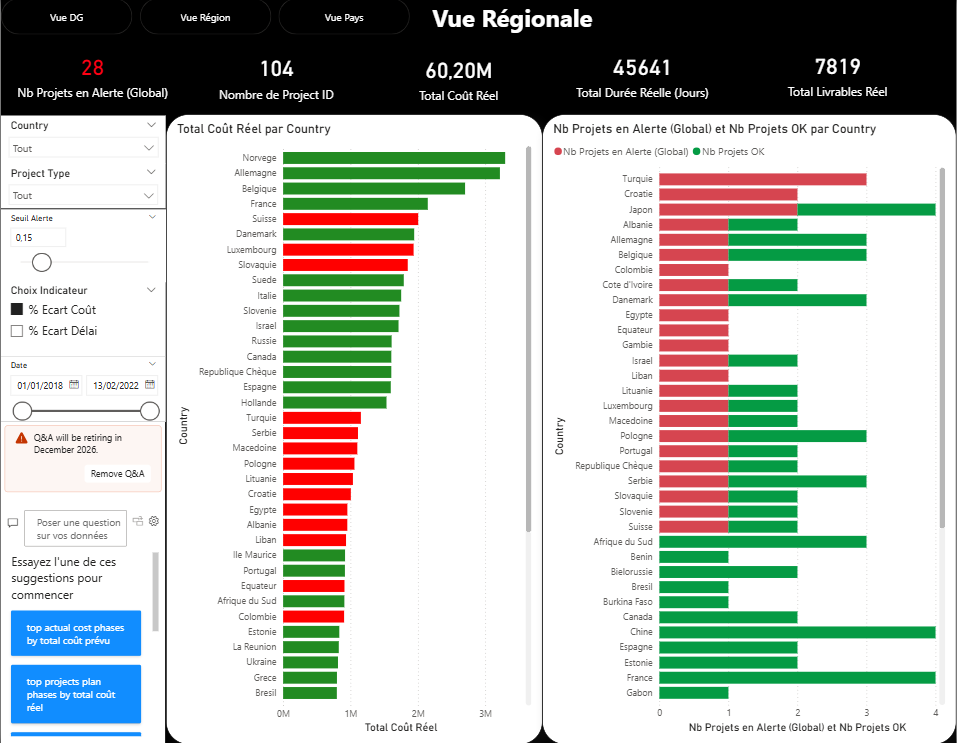

This screenshot's page, from the dashboard's own definition file:
{"tool":"powerbi","page":{"name":"Tableau de bord","canvas":[1280,1000],"ordinal":0},"visuals":[{"type":"group","id":"g1","title":"Groupe 2","box":[0,0,1280,1000],"z":1000},{"type":"textbox","box":[572.9,0,236.7,52.4],"z":1000,"group":"g1"},{"type":"clusteredBarChart","fields":{"Category":["Country_Profiles.Country"],"Y":["Actual_Costs.Total Coût Réel"]},"box":[221.1,155,505,845],"z":2000,"group":"g1"},{"type":"bookmarkNavigator","box":[0,0,548.7,49.4],"z":3000},{"type":"slicer","fields":{"Values":["Project type.Project Type"]},"box":[0,220.5,220.5,60.7],"z":3000,"group":"g1"},{"type":"barChart","fields":{"Category":["Country_Profiles.Country"],"Y":["Actual_Costs.Nb Projets en Alerte (Global)","Actual_Costs.Nb Projets OK"]},"box":[725,155,555,845],"z":4000,"group":"g1"},{"type":"slicer","fields":{"Values":["Choix Indicateur.Choix Indicateur"]},"box":[0,378.8,220.5,102.1],"z":5000,"group":"g1"},{"type":"card","fields":{"Values":["Actual_Costs.Nb Projets en Alerte"]},"box":[0,62.2,245.6,81.4],"z":6000,"group":"g1"},{"type":"card","fields":{"Values":["Actual_Costs.Total Coût Réel"]},"box":[491.3,62.2,245.6,87.3],"z":7000,"group":"g1"},{"type":"card","fields":{"Values":["Count(Projects_plans.Project ID)"]},"box":[245.6,62.2,245.6,84.3],"z":8000,"group":"g1"},{"type":"card","fields":{"Values":["Actual_Costs.Total Livrables Réel"]},"box":[982.6,56.2,279.7,87.3],"z":9000,"group":"g1"},{"type":"card","fields":{"Values":["Actual_Duration.Total Durée Réelle"]},"box":[736.9,59.2,245.6,87.3],"z":10000,"group":"g1"},{"type":"slicer","fields":{"Values":["Projects_plans.Start Date"]},"box":[0,480.9,220.5,87.3],"z":11000,"group":"g1"},{"type":"qnaVisual","box":[0,568.7,220.3,430.9],"z":12000,"group":"g1"},{"type":"slicer","fields":{"Values":["Seuil Alerte 2.Seuil Alerte"]},"box":[0,282.5,220.3,96.5],"z":13000,"group":"g1"},{"type":"slicer","fields":{"Values":["Country_Profiles.Country"]},"box":[0,157.1,220.9,63.8],"z":14000,"group":"g1"}]}

Visuals, with their boxes on the page's 1280x1000 design canvas (x1, y1, x2, y2). These are canvas units, not pixel positions in the 957x743 screenshot, which may show the page scaled, cropped or inside an application window:
"Groupe 2" group: 0:0:1280:1000
textbox: 573:0:810:52
clusteredBarChart - Country_Profiles.Country x Actual_Costs.Total Coût Réel: 221:155:726:1000
bookmarkNavigator: 0:0:549:49
slicer - Project type.Project Type: 0:220:220:281
barChart - Country_Profiles.Country x Actual_Costs.Nb Projets en Alerte (Global): 725:155:1280:1000
slicer - Choix Indicateur.Choix Indicateur: 0:379:220:481
card - Actual_Costs.Nb Projets en Alerte: 0:62:246:144
card - Actual_Costs.Total Coût Réel: 491:62:737:150
card - Count(Projects_plans.Project ID): 246:62:491:146
card - Actual_Costs.Total Livrables Réel: 983:56:1262:144
card - Actual_Duration.Total Durée Réelle: 737:59:982:146
slicer - Projects_plans.Start Date: 0:481:220:568
qnaVisual: 0:569:220:1000
slicer - Seuil Alerte 2.Seuil Alerte: 0:282:220:379
slicer - Country_Profiles.Country: 0:157:221:221
